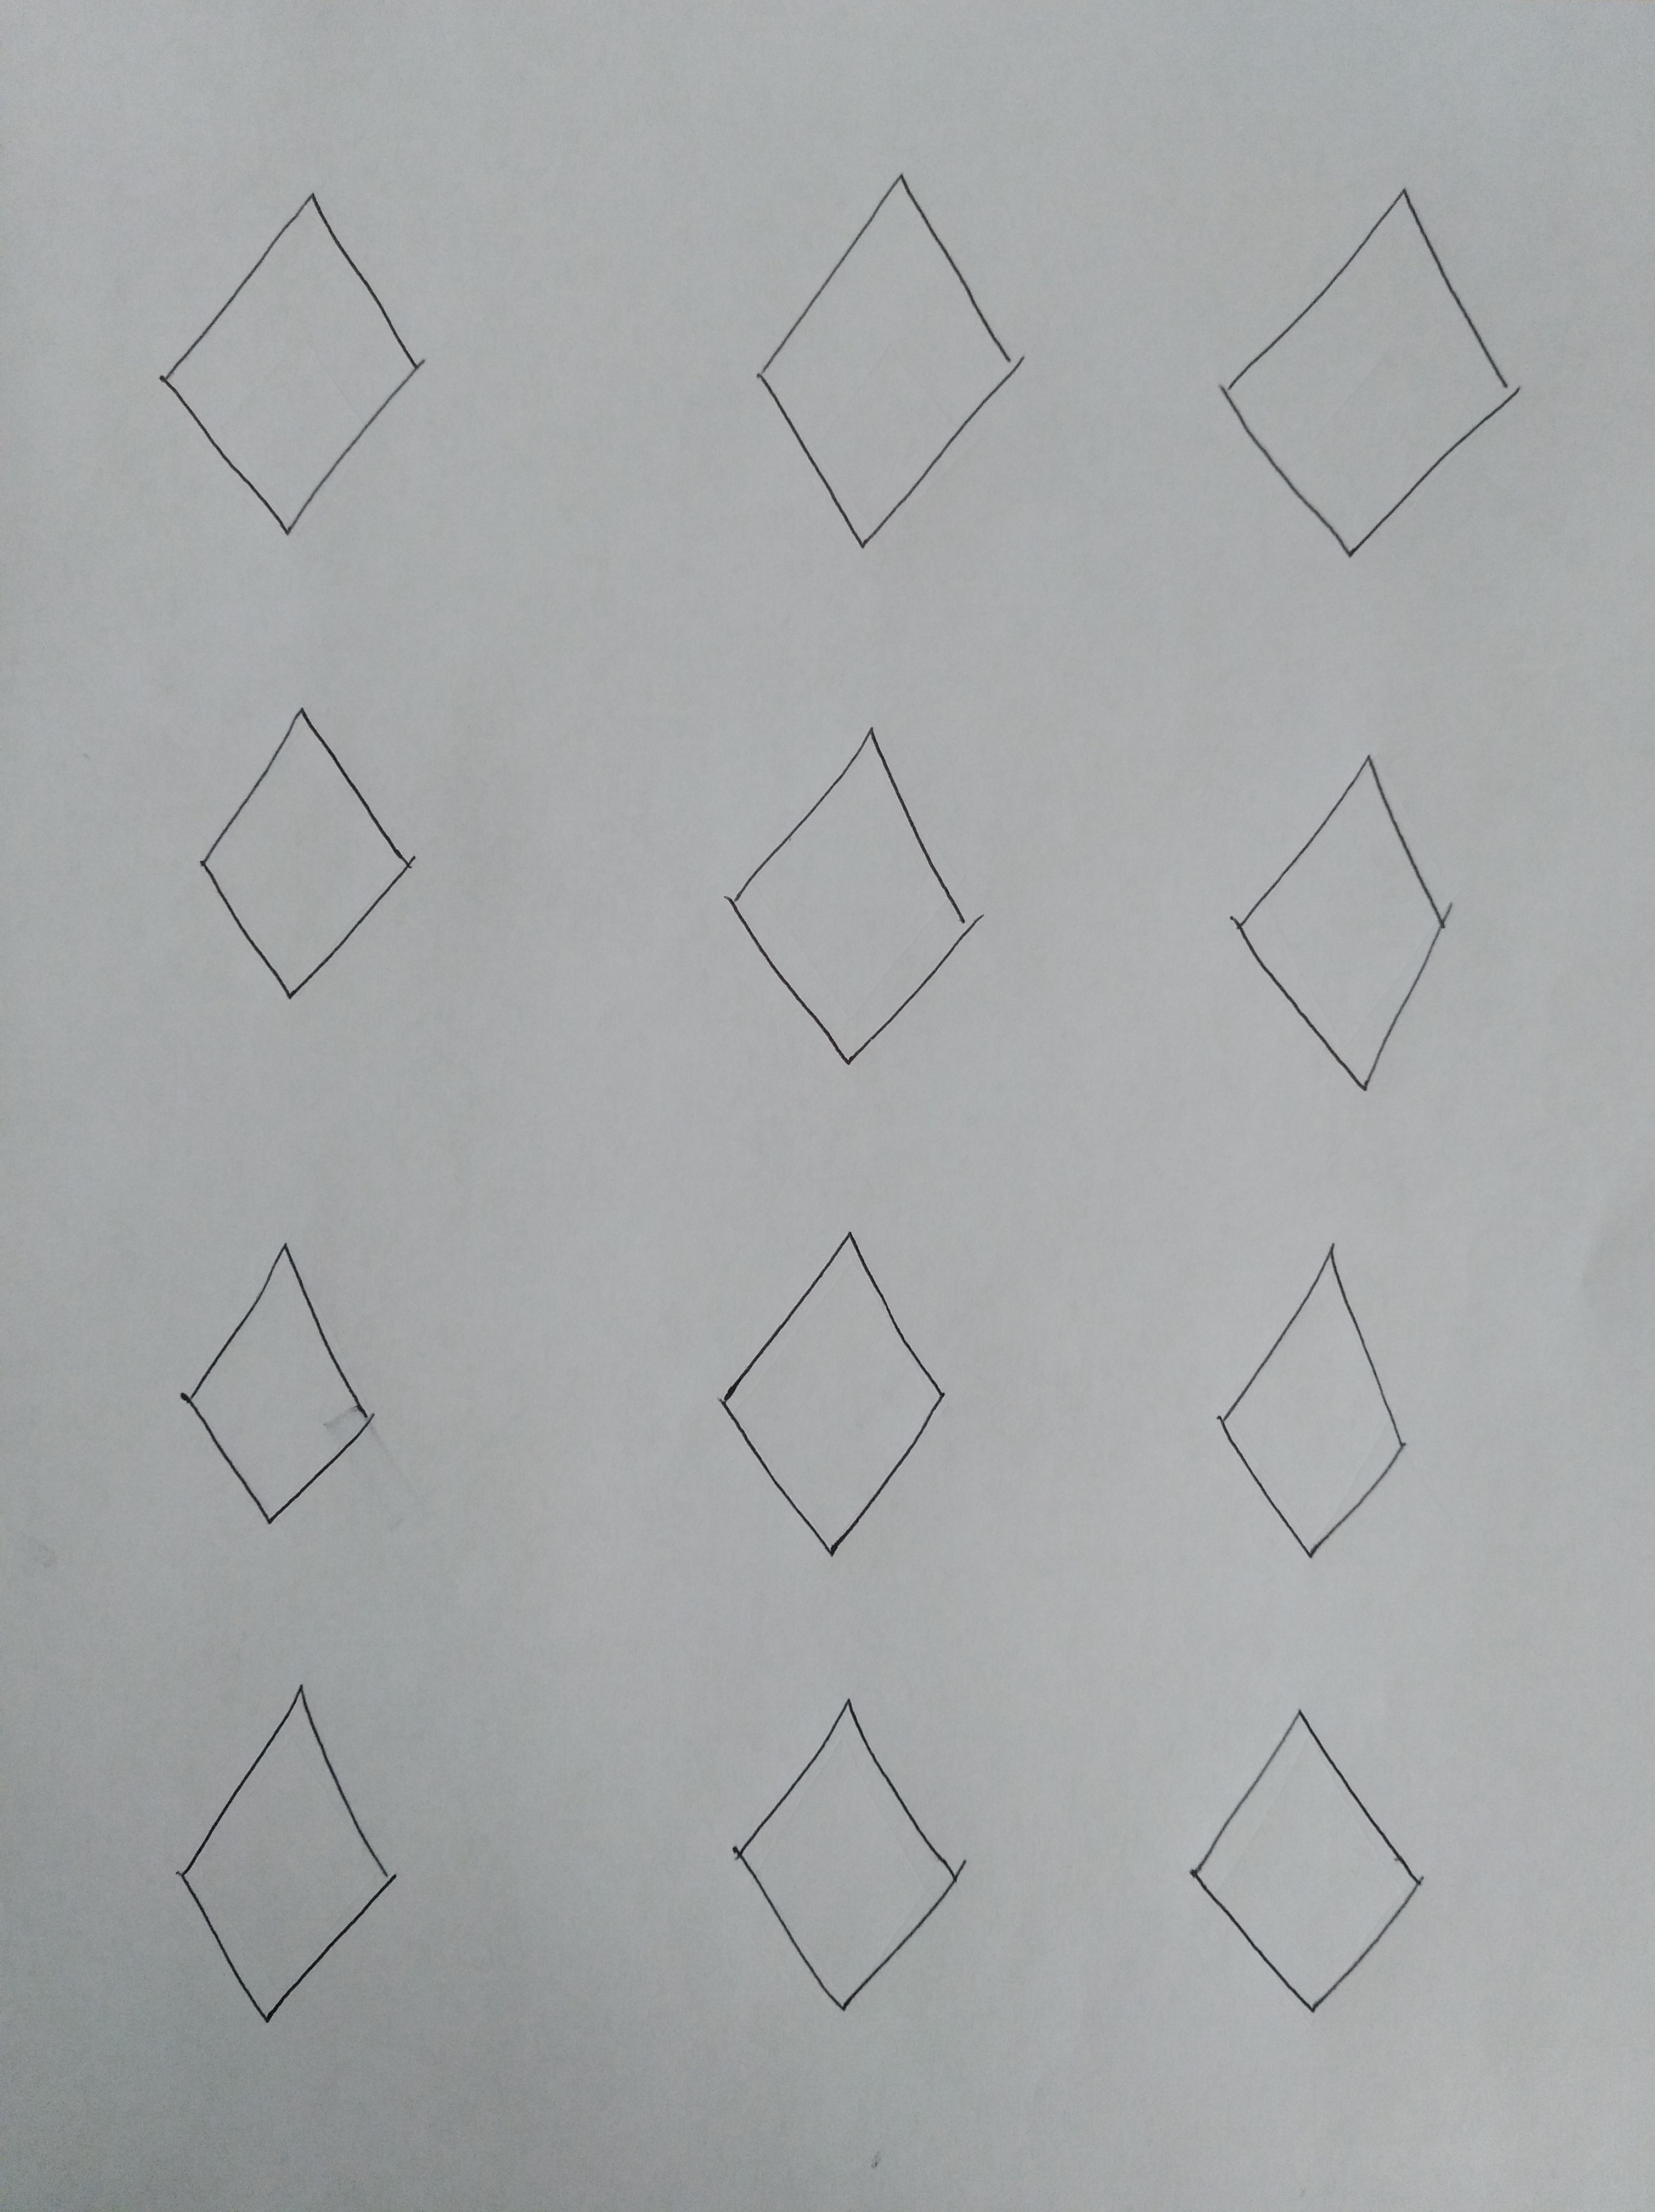decision: (1198, 148, 1545, 587), (718, 148, 1067, 570), (127, 172, 466, 570), (699, 688, 1003, 1095), (699, 1672, 1007, 2038), (1156, 1668, 1453, 2047), (141, 1663, 435, 2038), (1212, 721, 1479, 1116), (692, 1211, 977, 1576), (176, 688, 454, 1023), (141, 1220, 424, 1538), (1186, 1220, 1432, 1585)
